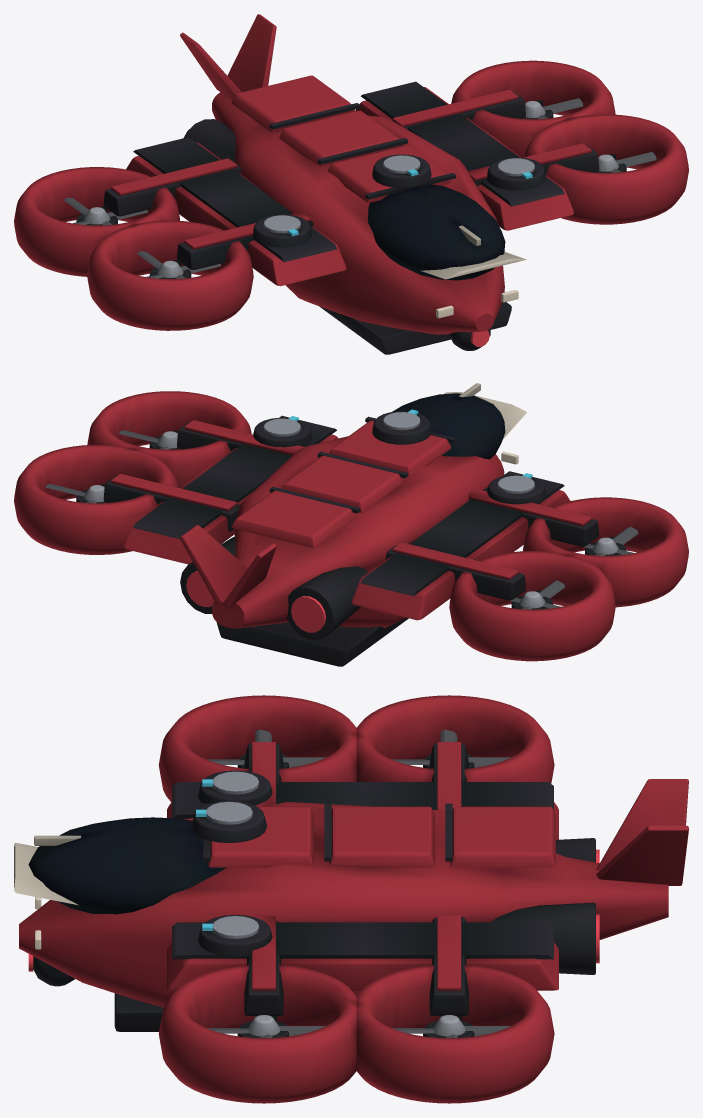
Rendered from ex_gunship_3.glb.
The picture shows the model from 3 angles, top to bottom: view 1: azimuth 30°, elevation 25°; view 2: azimuth 150°, elevation 25°; view 3: azimuth 270°, elevation 25°; orthographic projection. The views are drawn at different scales.
Visible parts, largest first — view 1: body, rotor_2, rotor_3, rotor_0, rotor_1; view 2: body, rotor_3, rotor_2, rotor_0, rotor_1; view 3: body, rotor_1, rotor_0, rotor_3, rotor_2.
Part boxes in pixels (x1,y1,x2,y2): body: [14, 14, 688, 354]; rotor_2: [137, 251, 220, 278]; rotor_3: [64, 197, 147, 225]; rotor_0: [598, 152, 656, 172]; rotor_1: [525, 98, 583, 118]; body: [14, 383, 688, 666]; rotor_3: [489, 580, 565, 609]; rotor_2: [581, 526, 638, 555]; rotor_0: [119, 430, 177, 449]; rotor_1: [46, 484, 104, 503]; body: [14, 695, 688, 1103]; rotor_1: [392, 1015, 510, 1037]; rotor_0: [207, 1015, 325, 1037]; rotor_3: [392, 729, 511, 767]; rotor_2: [206, 729, 325, 767].
Size of the model in its own units: 10.7 by 2.69 by 8.53.
